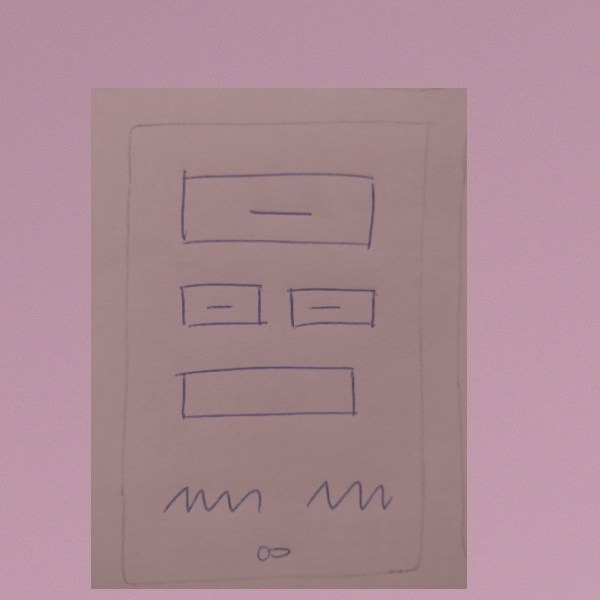button: (170, 162, 386, 258), (283, 280, 383, 336), (175, 277, 271, 333)
switch: (245, 534, 304, 570)
text: (152, 473, 273, 521), (302, 473, 397, 521)
text_input: (169, 357, 366, 428)
